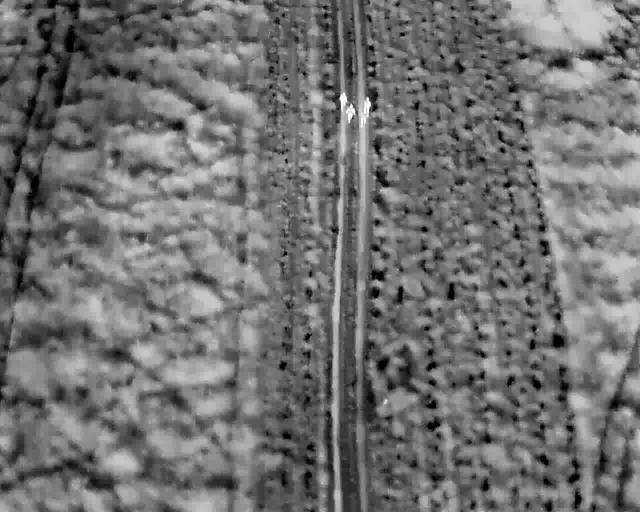person: (361, 94, 372, 117), (337, 91, 348, 113), (345, 102, 356, 124), (359, 107, 368, 128)
